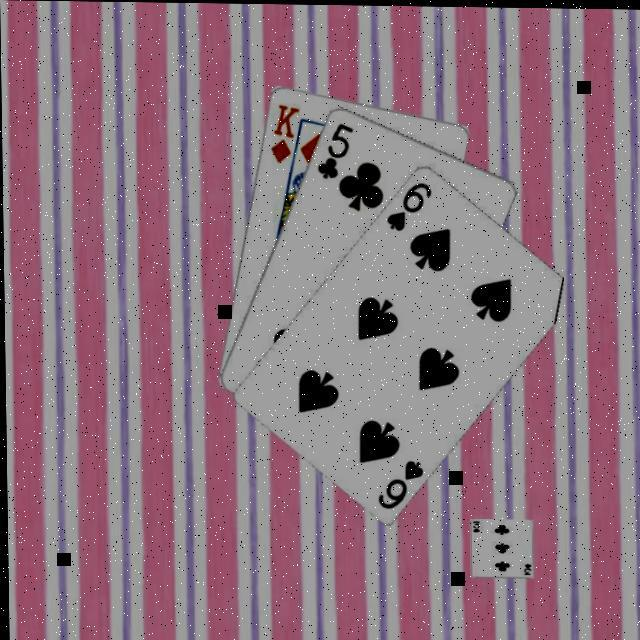5C: (314, 120, 357, 182)
6S: (384, 178, 437, 234), (374, 457, 427, 512)
KD: (268, 102, 303, 166)
